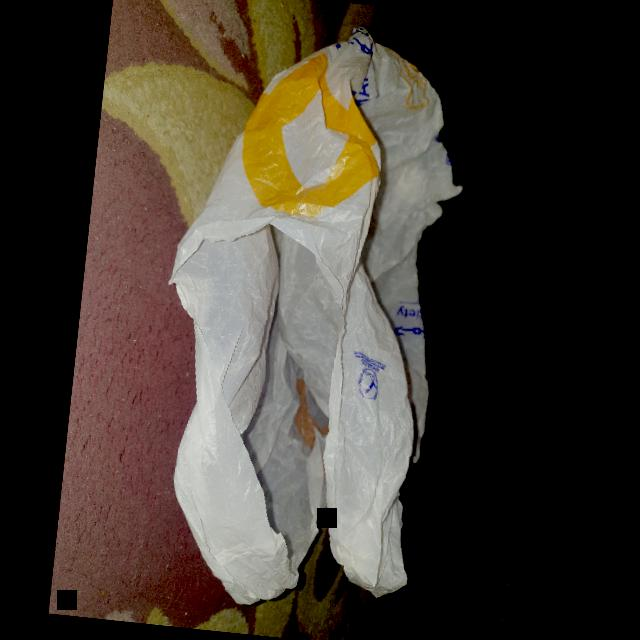plastic_bag: (130, 3, 484, 632)
